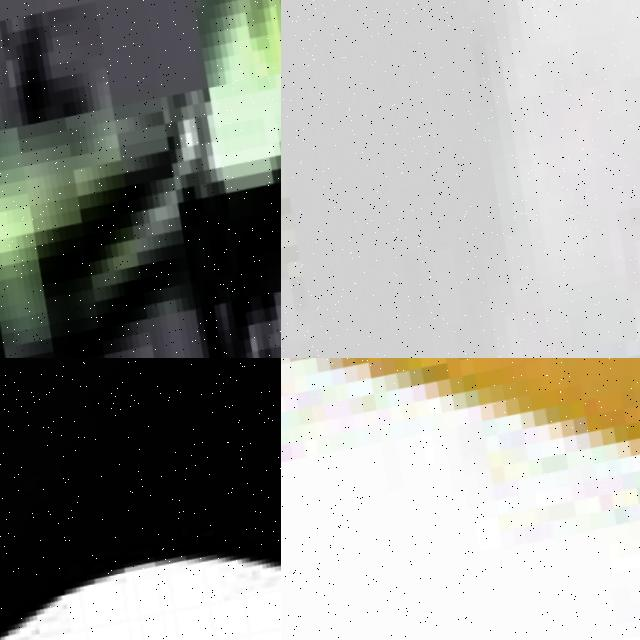0: (0, 0, 281, 358)
drone: (281, 0, 640, 358), (281, 358, 640, 640), (0, 358, 281, 640)
